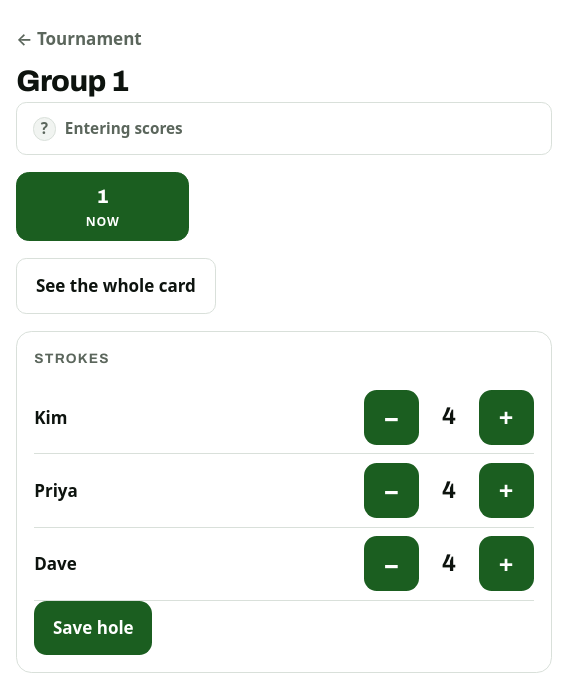
Test: score entry › falls through to longest drive when the group declines the pin question
Click the button "Save hole": [93, 628] box [34,601,152,655]
(page scrolled)
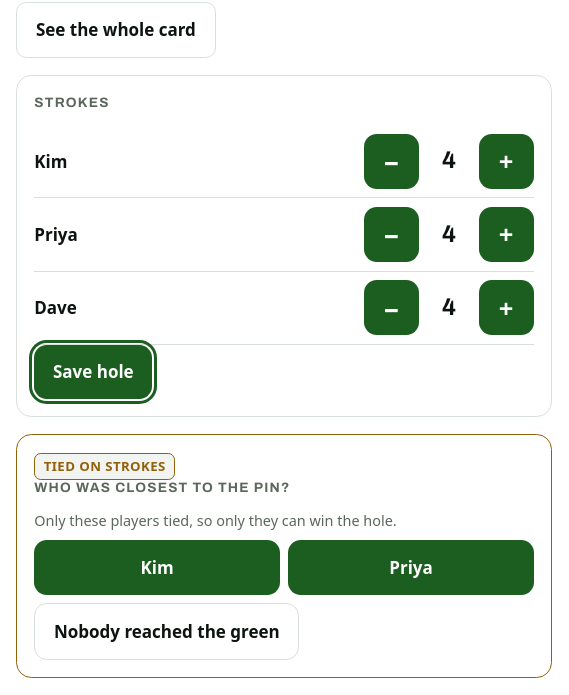
Click the button "Nobody reached the green": [167, 631] box [34,603,299,660]
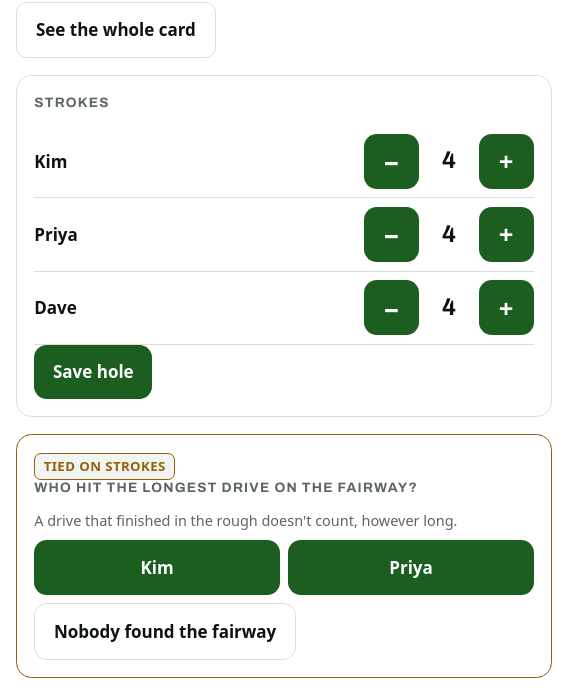
Expected: the heading "Who hit the longest drive on the fairway?" is shown, [34,480,418,495]
